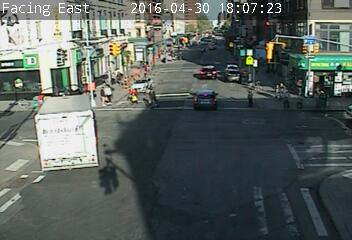neg: (91, 155, 124, 200), (205, 166, 232, 202), (28, 67, 55, 102), (286, 140, 312, 176), (126, 77, 150, 109), (194, 93, 218, 125), (255, 102, 279, 134), (244, 49, 266, 77), (69, 46, 90, 74), (178, 32, 199, 60), (136, 126, 156, 153), (69, 117, 86, 140), (132, 182, 149, 205), (35, 181, 51, 202)
